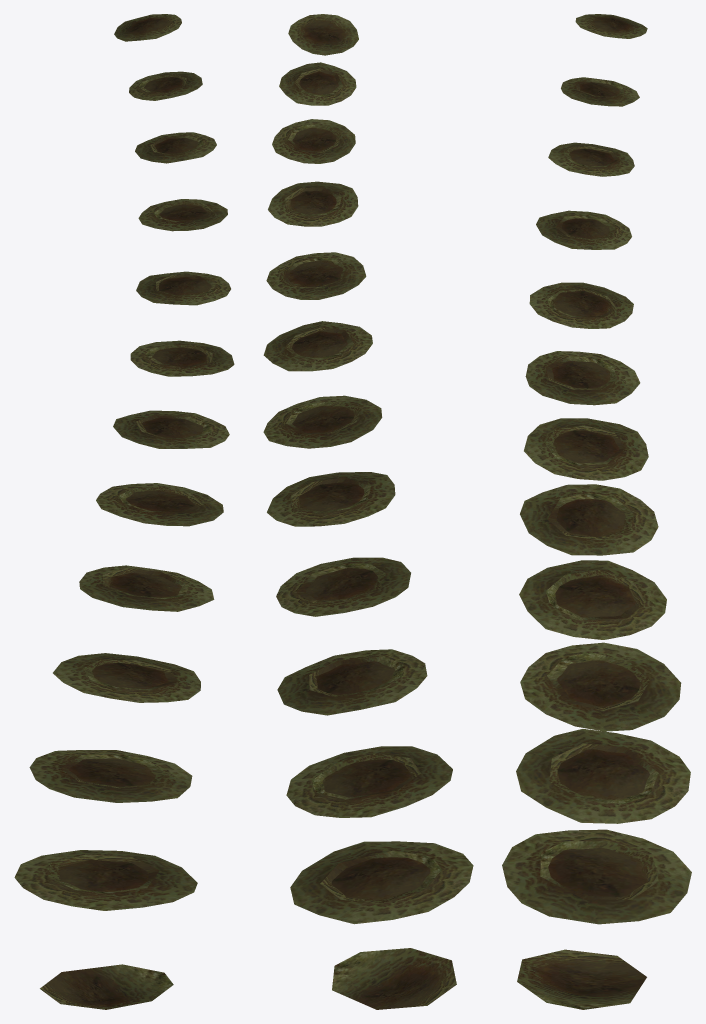
Rendered from eaw_feluciaPlantA.glb.
3 renders of one model, left to right at view 1: azimuth 30°, elevation 25°; view 2: azimuth 150°, elevation 25°; view 3: azimuth 270°, elevation 25°, orthographic. The views are drawn at different scales.
Parts seen in each view (by area): view 1: backup_0; view 2: backup_0; view 3: backup_0.
Boxes of the visible parts, x1,y1,x2,y2 form: backup_0: (14, 14, 234, 1009); backup_0: (263, 14, 473, 1009); backup_0: (502, 14, 691, 1009).
Size of the model in its own units: 2.07 by 9.8 by 1.69.
1 material, 1 textured.
